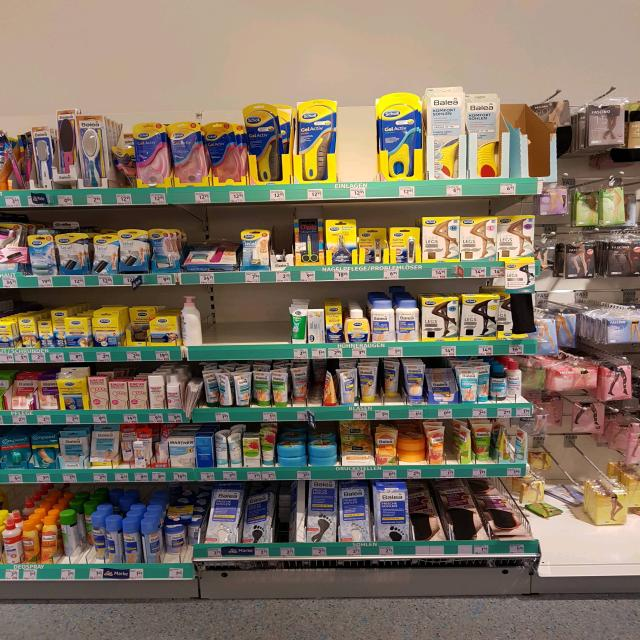void: (340, 95, 375, 197), (208, 284, 233, 358), (239, 284, 263, 359), (268, 286, 286, 356), (274, 482, 288, 560), (445, 420, 460, 477)
